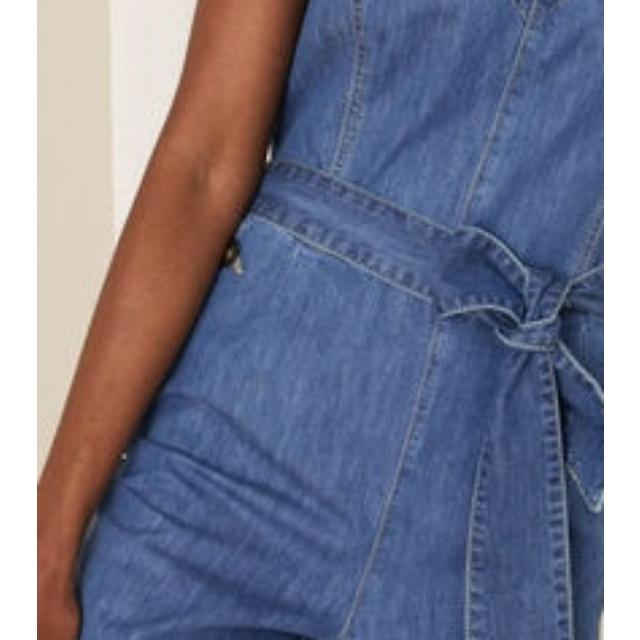denim: (306, 0, 544, 640)
